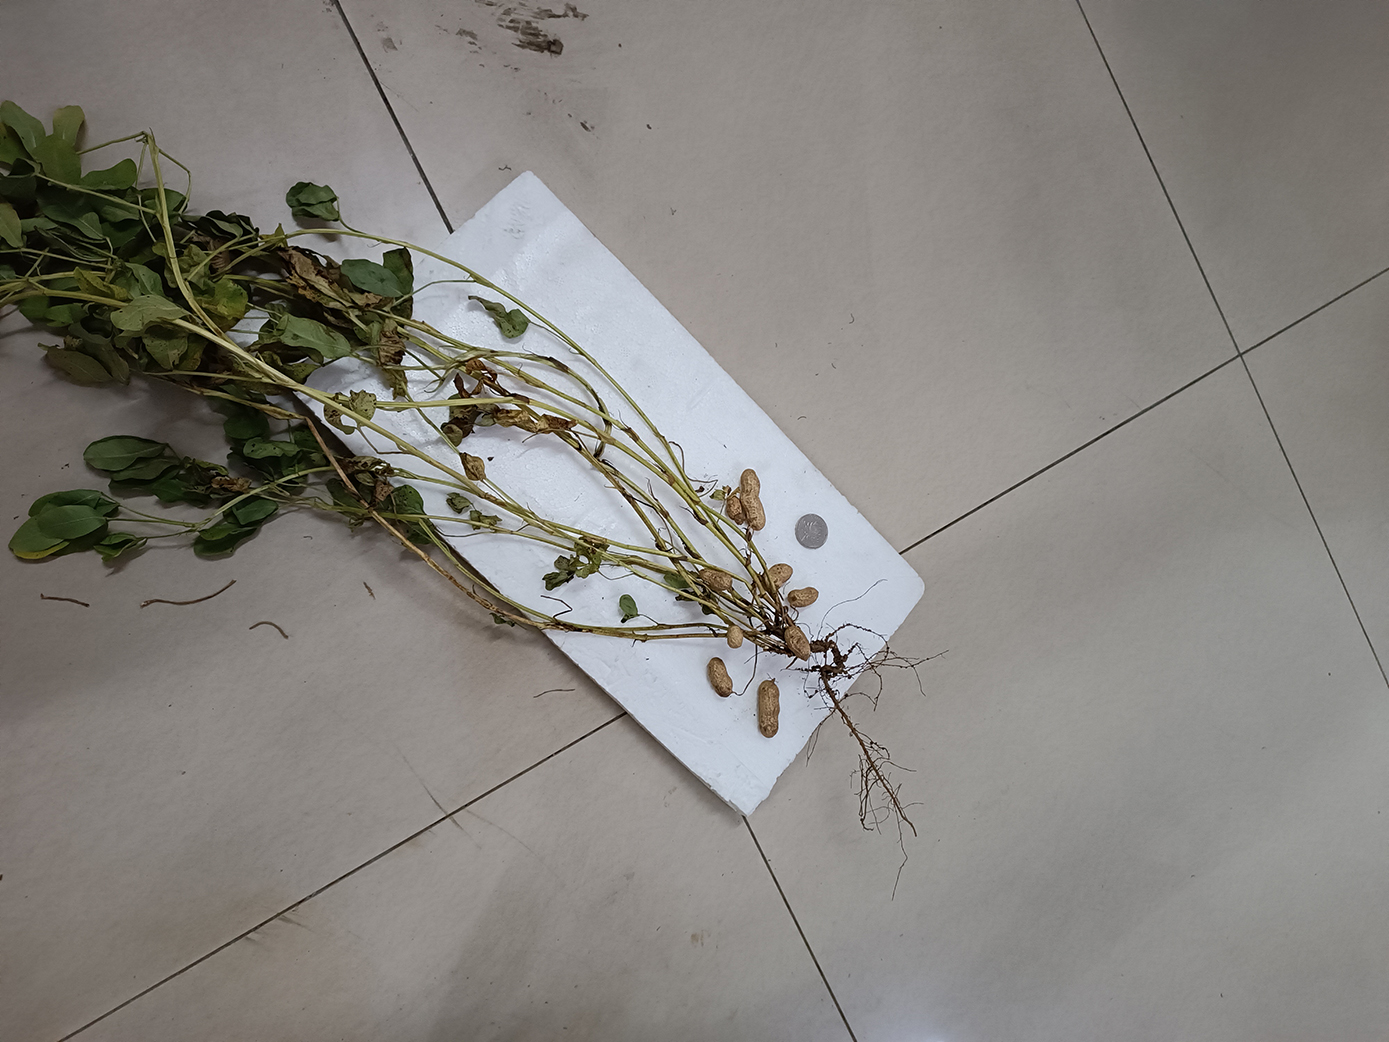h: (739, 468, 766, 531), (757, 680, 782, 738), (783, 625, 812, 661), (708, 657, 734, 696), (698, 568, 733, 591), (787, 584, 819, 609), (765, 563, 794, 587), (727, 625, 743, 649)
l: (724, 494, 746, 524)
